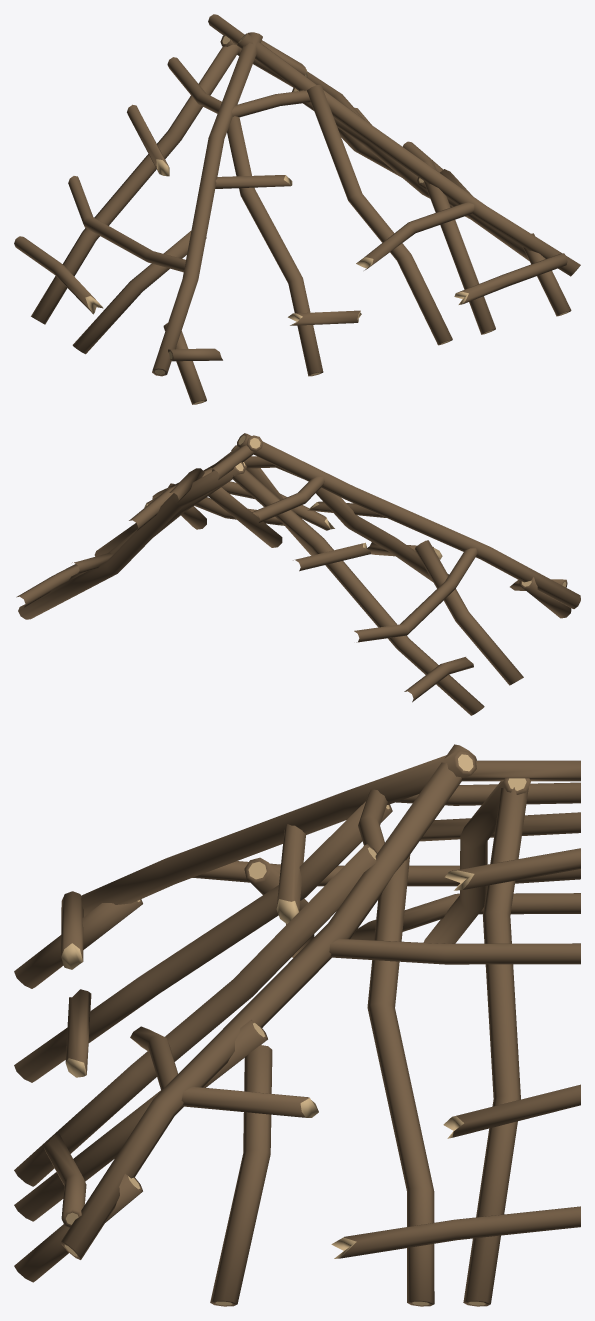
Rendered from rpgpp_av_roof_support_01_9x4x3_end_02a.gltf.
3 renders of one model, top to bottom at view 1: azimuth 30°, elevation 25°; view 2: azimuth 150°, elevation 25°; view 3: azimuth 270°, elevation 25°, orthographic. The views are drawn at different scales.
Visible parts, largest first — view 1: rpgpp_av_roof_support_01_9x4x3_end_02a; view 2: rpgpp_av_roof_support_01_9x4x3_end_02a; view 3: rpgpp_av_roof_support_01_9x4x3_end_02a.
Part boxes in pixels (bbox=[...]): rpgpp_av_roof_support_01_9x4x3_end_02a: bbox=[14, 14, 580, 404]; rpgpp_av_roof_support_01_9x4x3_end_02a: bbox=[16, 433, 580, 715]; rpgpp_av_roof_support_01_9x4x3_end_02a: bbox=[14, 744, 580, 1306].
Size of the model in its own units: 0.1 by 0.0494 by 0.0658.
Materials: 1 (1 with a texture image).
